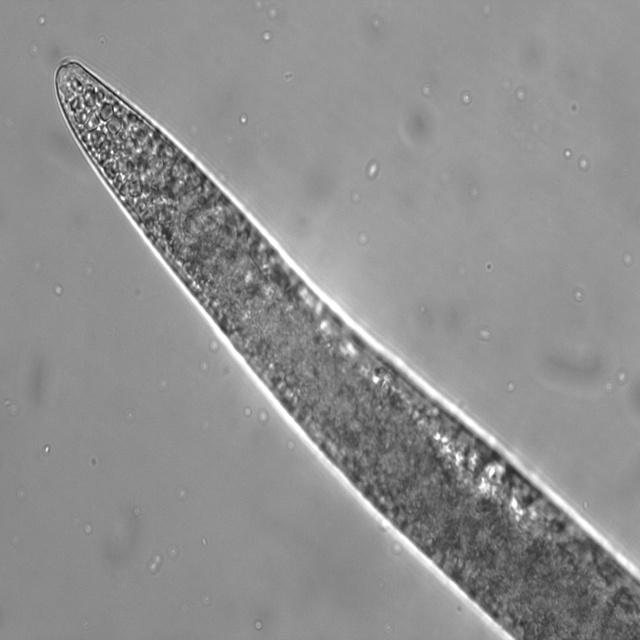Pratylenchus: (48, 52, 640, 640)
